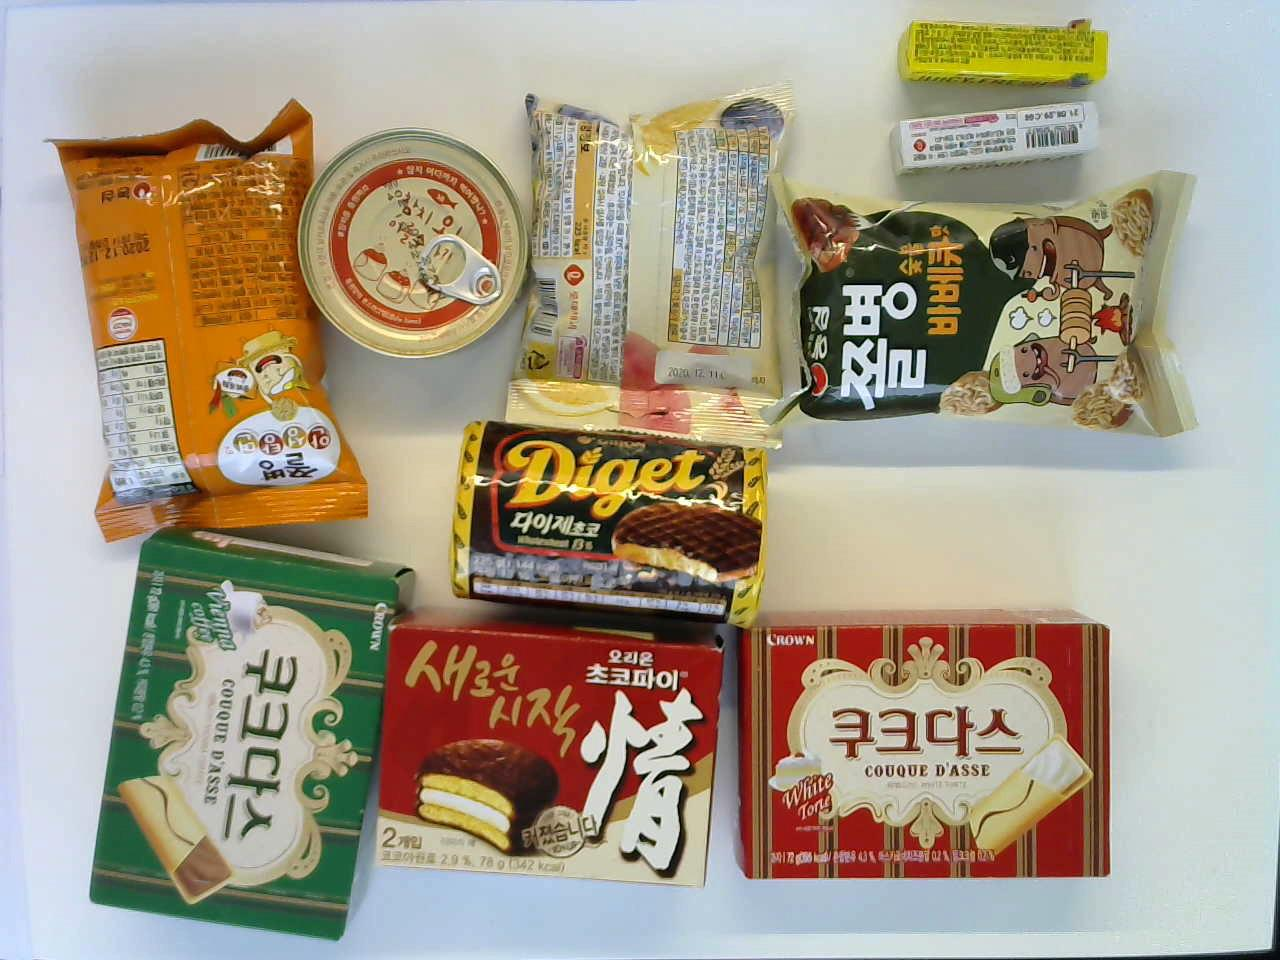chocopie: (381, 619, 718, 894)
couque_coffee: (90, 526, 415, 941)
couque_white: (737, 608, 1121, 878)
diget_choco: (450, 419, 763, 626)
gumi_gumi: (511, 100, 799, 428)
jjolbyung_noodle: (57, 123, 362, 524), (737, 608, 1121, 878)
jjolbyung_ori: (794, 172, 1203, 429), (737, 608, 1121, 878)
juicyfresh: (890, 20, 1106, 86)
spearmint: (889, 99, 1102, 175)
tuna: (794, 172, 1203, 429), (299, 124, 524, 359)
